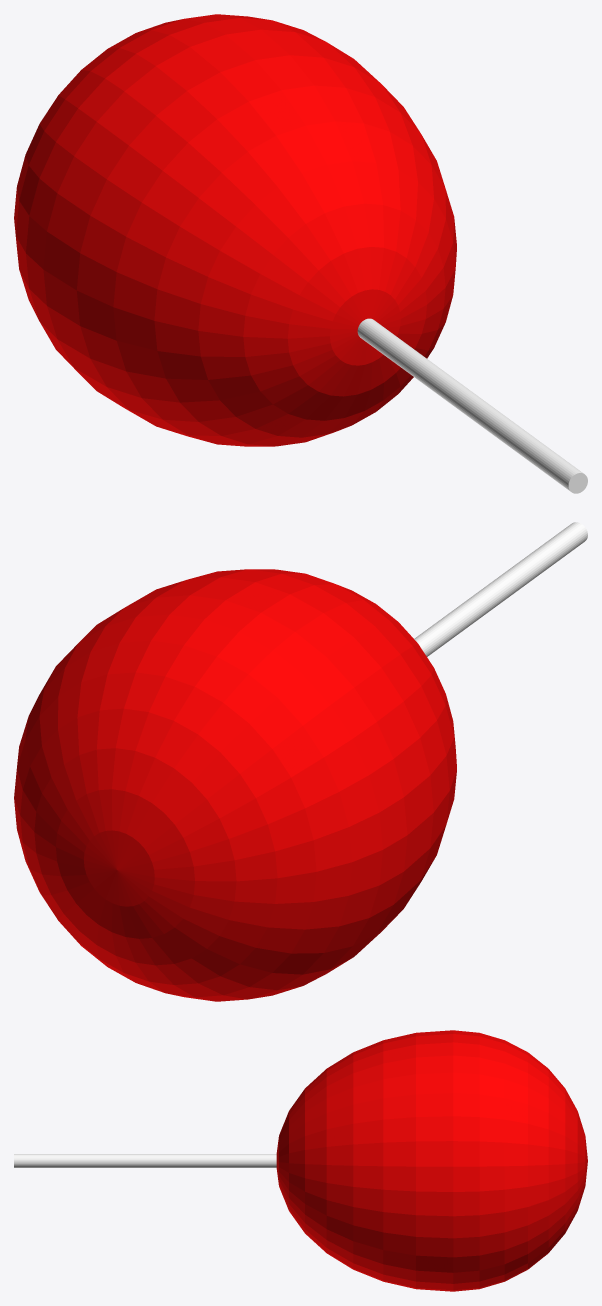
Rendered from Balloon.fbx.
3 views of the same model, one above another, from view 1: azimuth 30°, elevation 25°; view 2: azimuth 150°, elevation 25°; view 3: azimuth 270°, elevation 25° (orthographic). The views are drawn at different scales.
Visible parts, largest first — view 1: 球; view 2: 球; view 3: 球.
Boxes of the visible parts, box(x1,y1,x2,y2) form: 球: box(14, 14, 587, 493); 球: box(14, 522, 587, 1001); 球: box(14, 1030, 587, 1291).
Size of the model in its own units: 37.5 by 37.5 by 82.25.
1 material, 1 textured.
